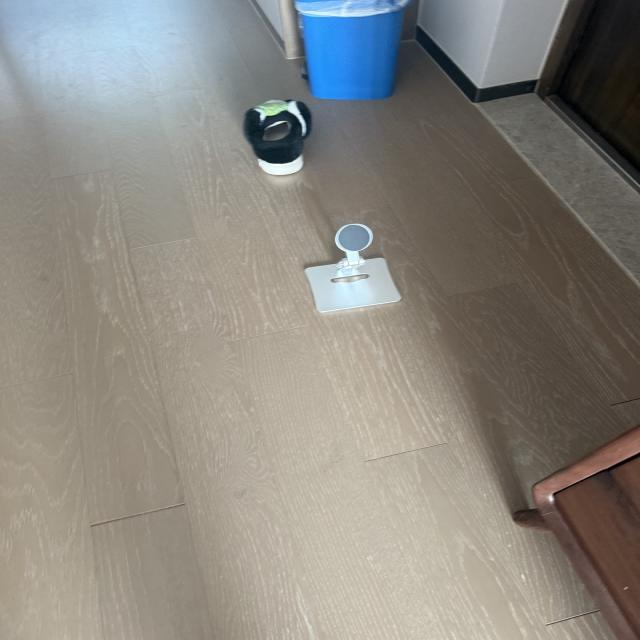phone holder: (292, 222, 406, 316)
